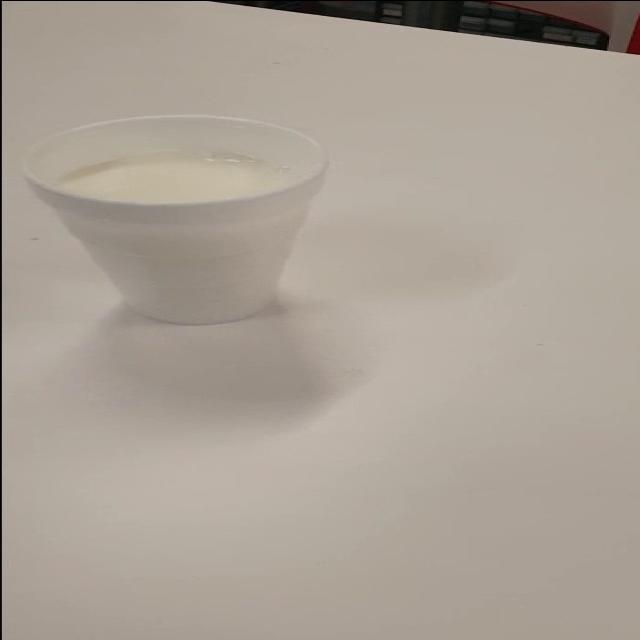Milk: (24, 103, 379, 342)
